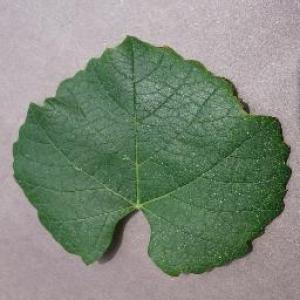Folha: (10, 34, 292, 277)
